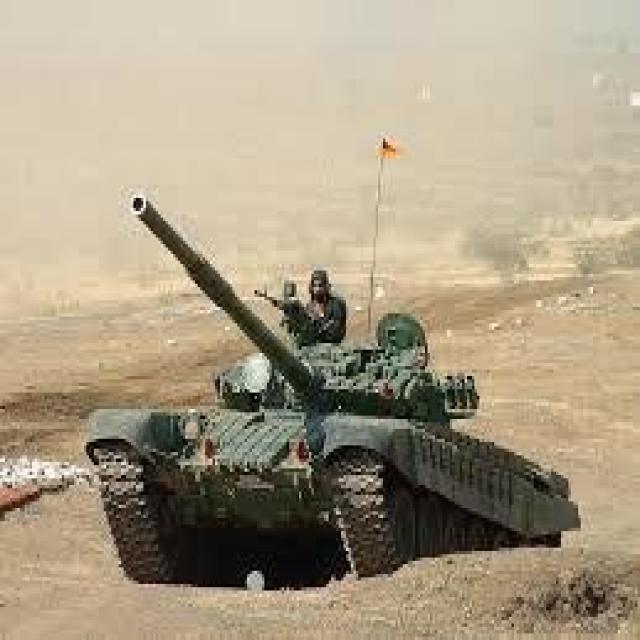Tanks: (83, 308, 579, 596)
